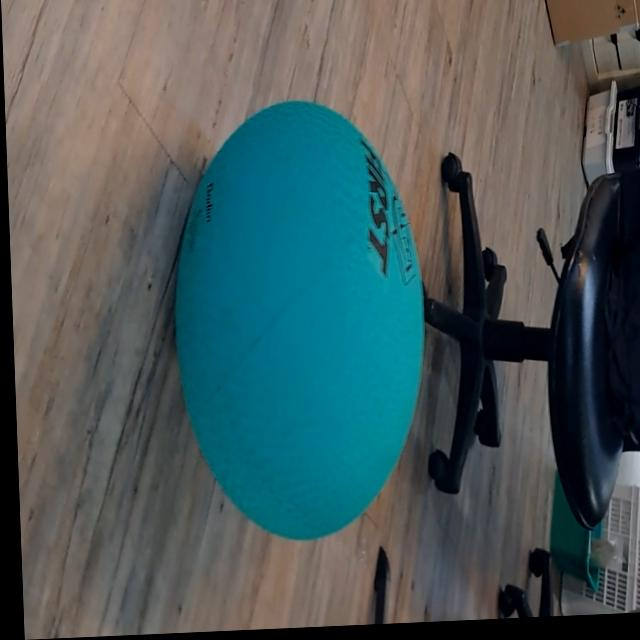ALGAE: (164, 92, 435, 547)
